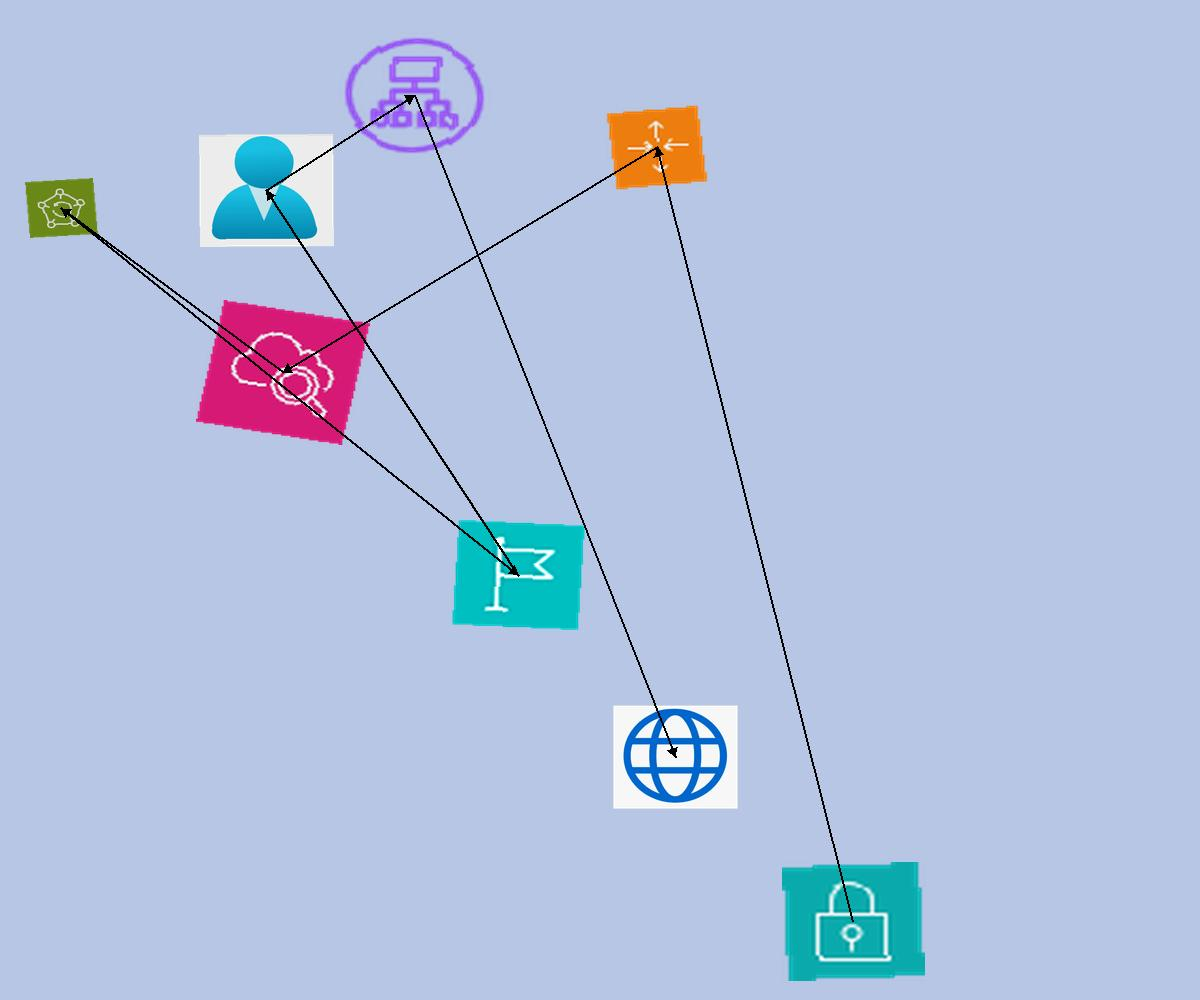AWS-Backup: (25, 178, 98, 238)
AWS-CloudWatch: (196, 300, 370, 445)
AWS-Private-subnet: (782, 862, 925, 981)
AWS-Region: (451, 519, 586, 631)
AWS-Res_Elastic-Load-Balancing_Application-Load-Balancer: (333, 28, 496, 163)
AWS-Scaling-group: (605, 104, 709, 191)
Azure_http: (613, 705, 738, 809)
Azure_users: (199, 134, 334, 247)
